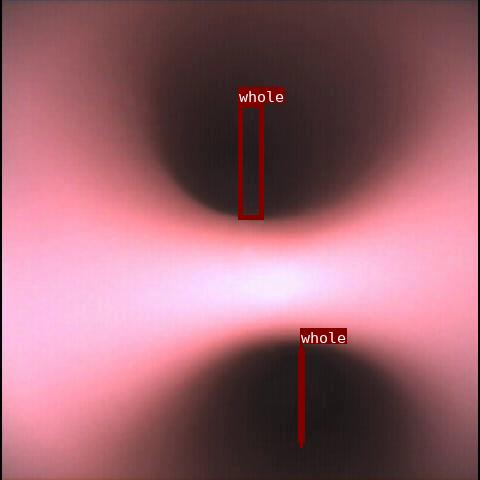whole: (238, 103, 263, 219), (300, 344, 302, 447)
